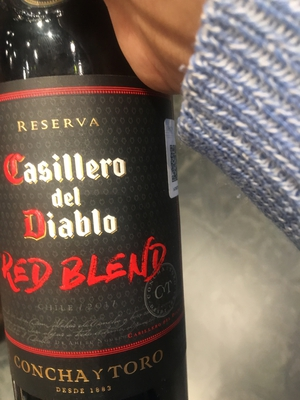casillero del diablo red blend: (2, 17, 192, 400)
